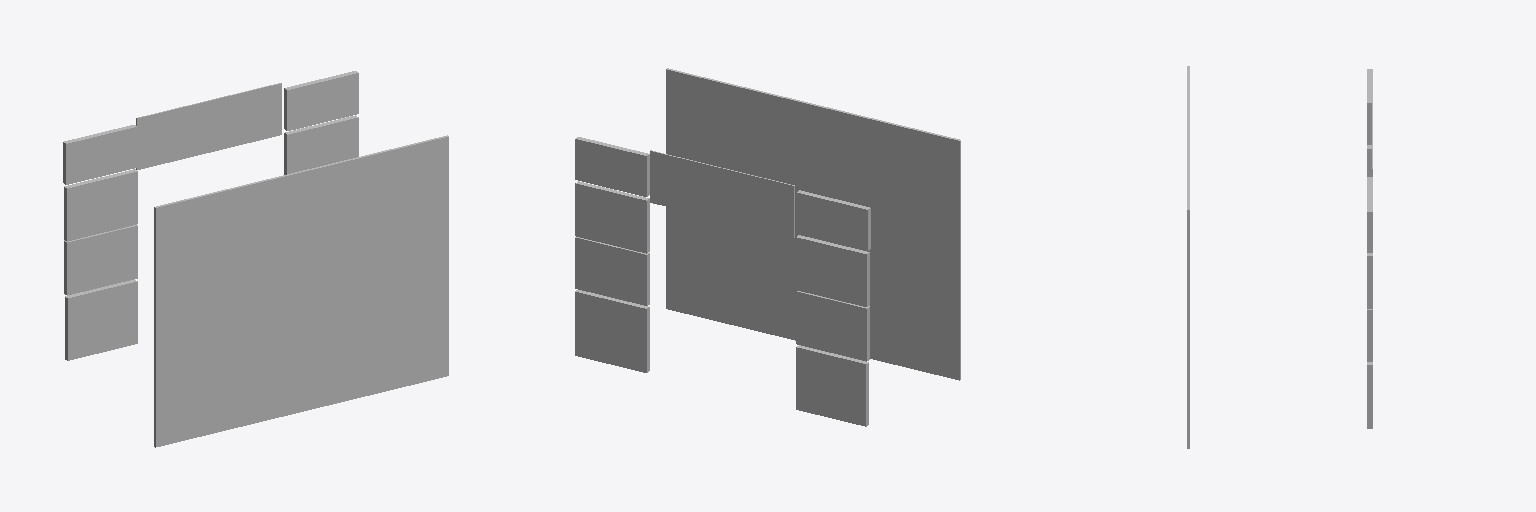
Rendered from housesp_118.obj.
The picture shows the model from 3 angles: view 1: azimuth 30°, elevation 25°; view 2: azimuth 150°, elevation 25°; view 3: azimuth 270°, elevation 25°; orthographic projection.
Size of the model in its own units: 109 by 86.4 by 59.81.